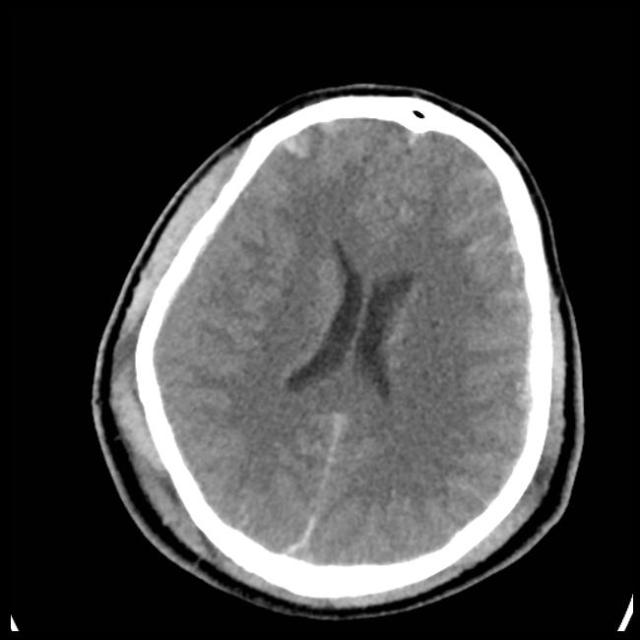lesion: (91, 83, 586, 617)
